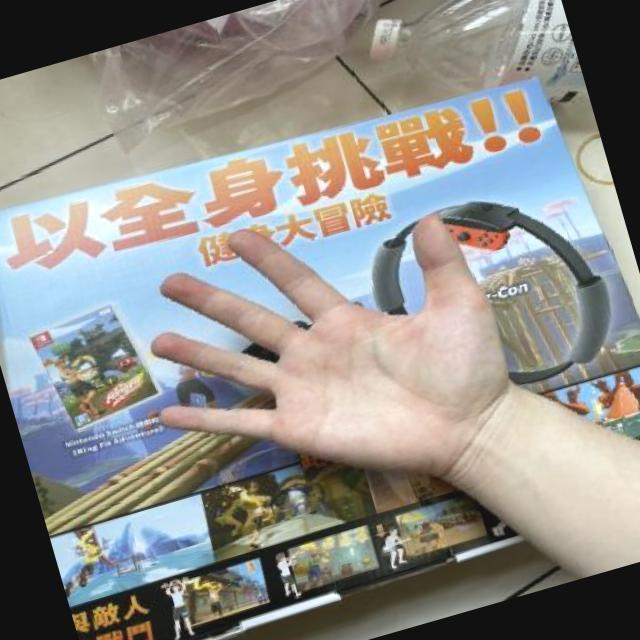hand: (100, 151, 550, 560)
